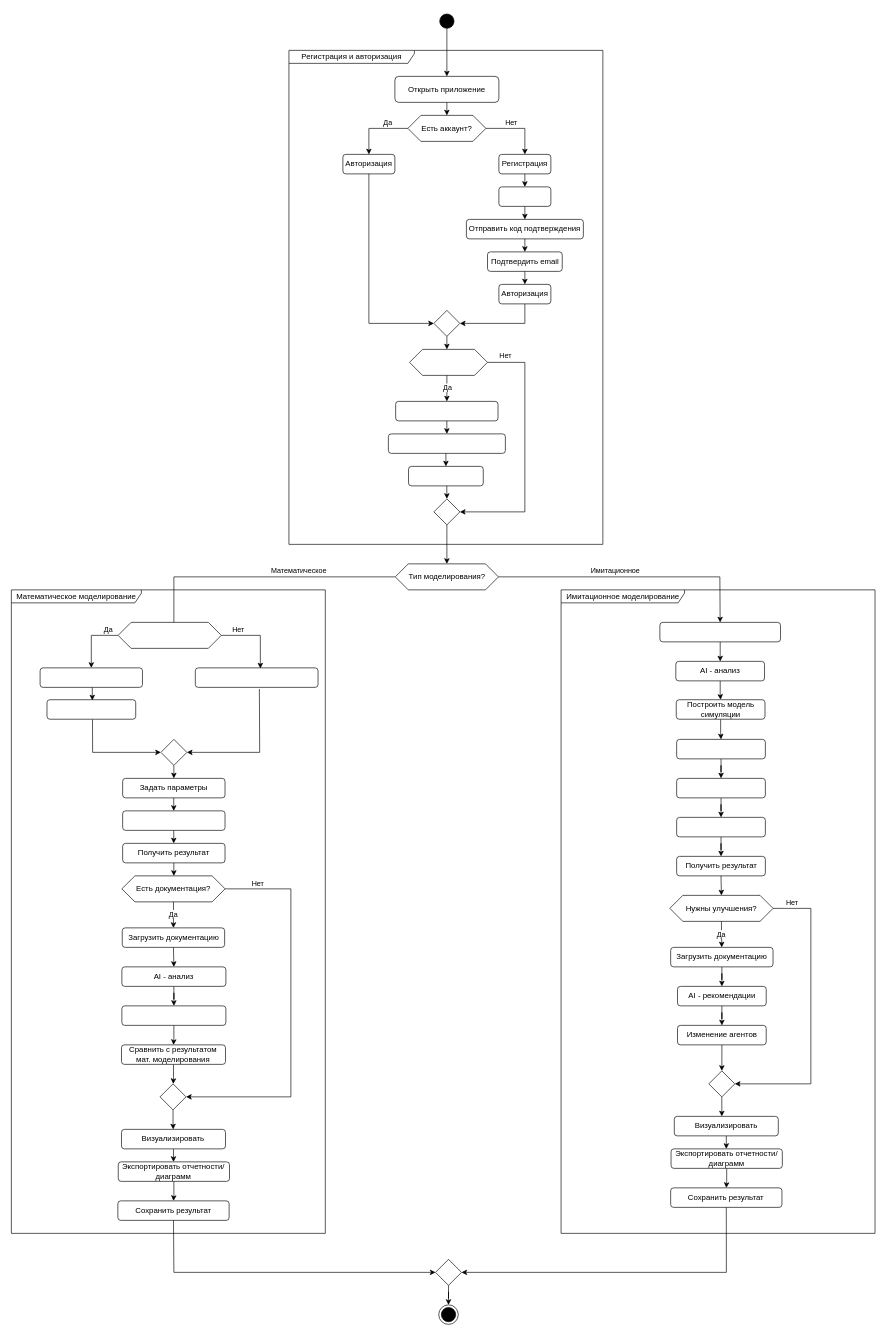
Some shapes in this 887 by 1336 pixel diagram are drawn without their labels. Each missing label, with the centre of its shape:
"Ввести email" belongs at (524,196).
"Выбрать существующую модель" belongs at (256,677).
"Забыли пароль?" belongs at (448,362).
"Загрузить финансовую отчетность" belongs at (720,632).
"Запрос сброса пароля" belongs at (446,411).
"Запустить вычисления" belongs at (173,820).
"Запустить симуляцию" belongs at (720,827).
"Извлечь реальные показатели" belongs at (173,1015).
"Настроить поведение агентов" belongs at (720,788).
"Определить параметры" belongs at (91,709).
"Отправить ссылку на email" belongs at (446,443).
"Сбросить пароль" belongs at (445,476).
"Создать агентов" belongs at (720,749).
"Создать новую модель" belongs at (90,677).
"Создать новую модель?" belongs at (169,635).
